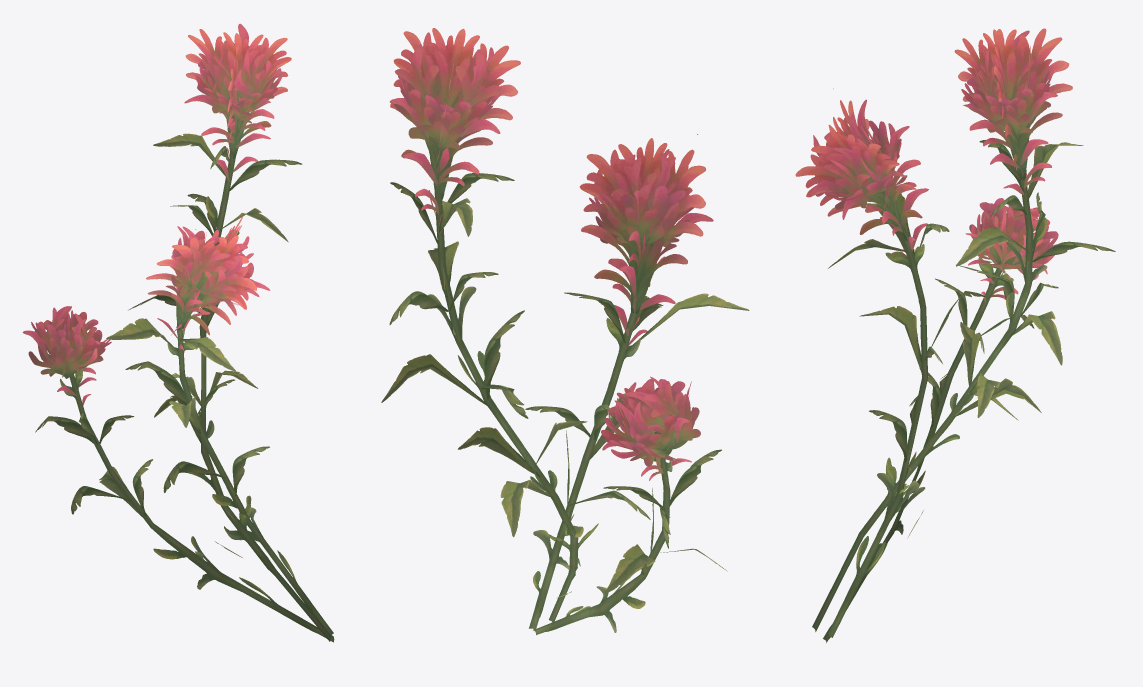
3 views of the same model, side by side, from view 1: azimuth 30°, elevation 25°; view 2: azimuth 150°, elevation 25°; view 3: azimuth 270°, elevation 25° (orthographic). The views are drawn at different scales.
Size of the model in its own units: 2.62 by 5.31 by 2.56.
Materials: 1 (1 with a texture image).
